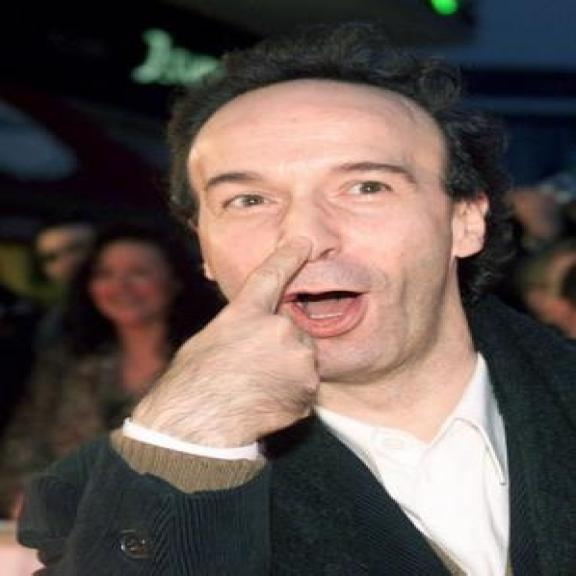face: (194, 93, 508, 385), (96, 240, 179, 327), (516, 265, 576, 328), (41, 220, 93, 284)
